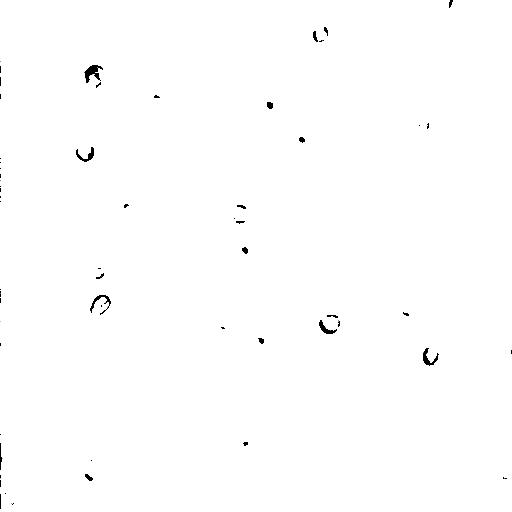micro-algae: (157, 1, 265, 91), (191, 168, 281, 255), (107, 1, 183, 71), (387, 259, 456, 328), (273, 0, 340, 44), (388, 14, 438, 63), (309, 277, 355, 321), (485, 239, 512, 308), (212, 298, 257, 339), (222, 28, 260, 68), (76, 457, 111, 489), (385, 301, 419, 333), (75, 62, 107, 95), (245, 320, 275, 355), (384, 45, 418, 71), (114, 195, 144, 223), (1, 483, 29, 511), (255, 90, 283, 117), (51, 224, 79, 251), (411, 105, 433, 135), (287, 120, 310, 148), (319, 311, 343, 337), (88, 291, 113, 315), (492, 408, 512, 438), (237, 433, 259, 457), (405, 216, 428, 238), (420, 343, 440, 368), (493, 460, 512, 486), (1, 67, 17, 95), (88, 261, 110, 281), (75, 141, 95, 161), (234, 239, 254, 259), (311, 21, 329, 43), (231, 204, 250, 223), (446, 0, 468, 14), (1, 442, 9, 469)
